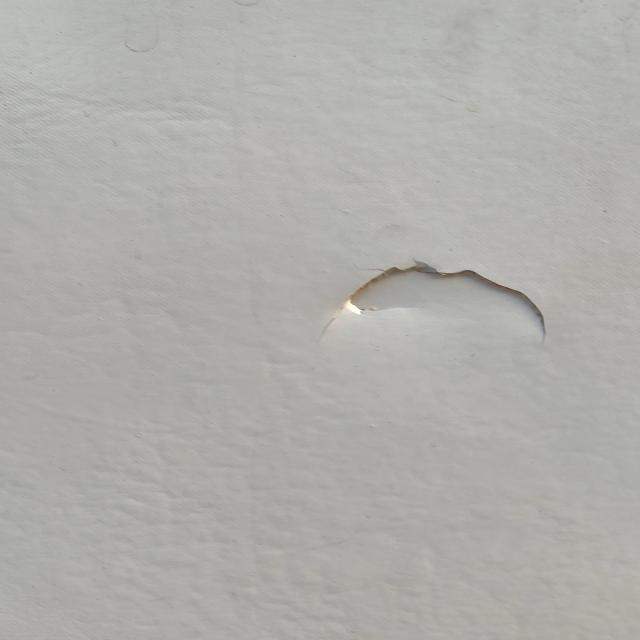Scratches: (291, 232, 569, 359)
